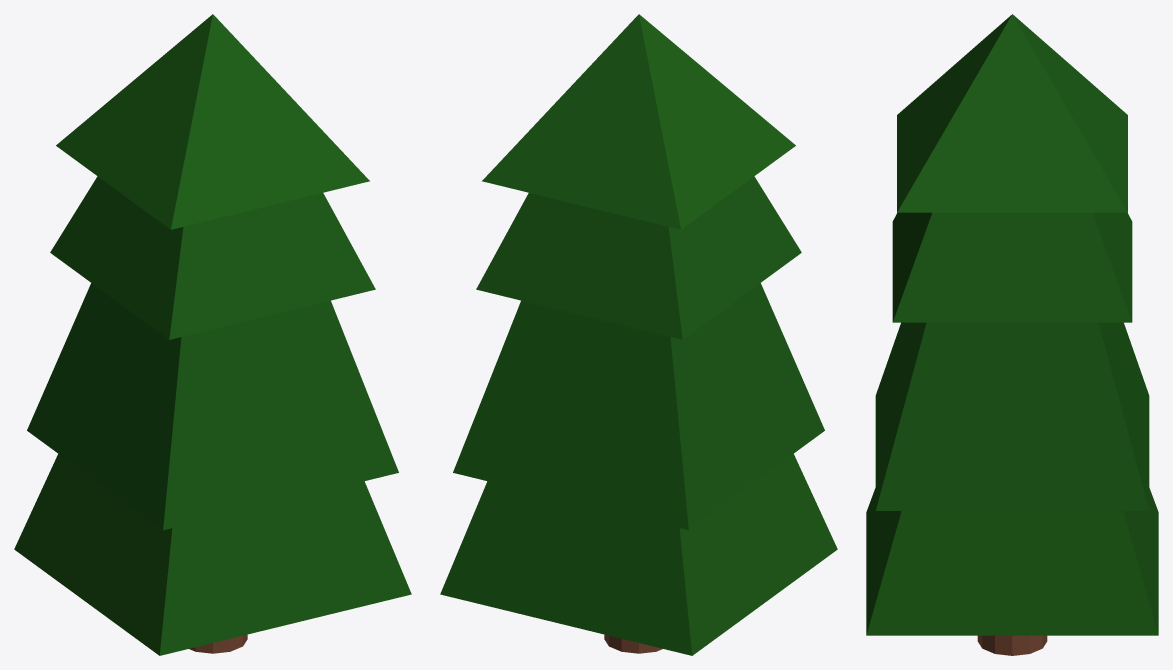
Rendered from Tree_17_autumn_vc.fbx.
The picture shows the model from 3 angles, left to right: view 1: azimuth 30°, elevation 25°; view 2: azimuth 150°, elevation 25°; view 3: azimuth 270°, elevation 25°; orthographic projection.
Parts seen in each view (by area): view 1: Tree_17_autumn_vc; view 2: Tree_17_autumn_vc; view 3: Tree_17_autumn_vc.
Boxes of the visible parts, x1,y1,x2,y2 form: Tree_17_autumn_vc: (14,14,411,655); Tree_17_autumn_vc: (440,14,837,655); Tree_17_autumn_vc: (866,14,1158,655).
Bounding box in the file's own units: 1.7 × 4.03 × 1.7.
